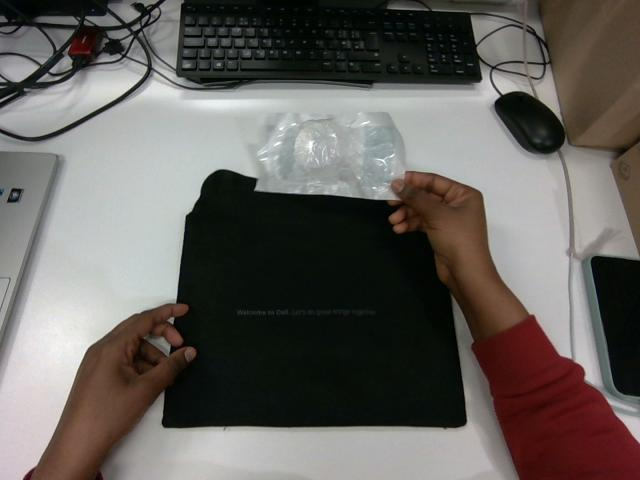gallipot: (256, 113, 405, 199)
